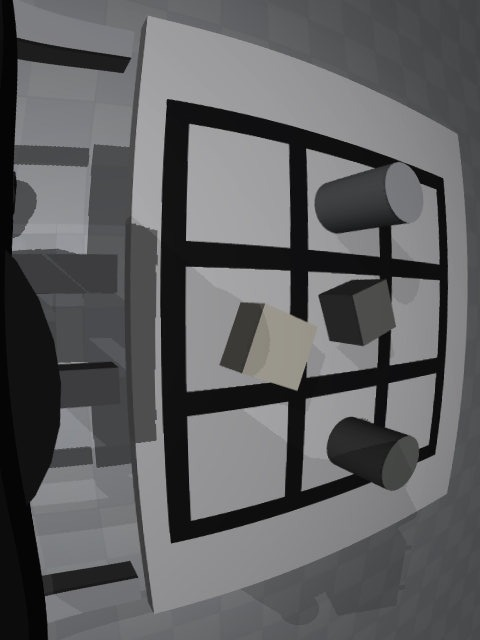can: (314, 162, 424, 234)
cube: (318, 279, 396, 346)
cylinder: (326, 417, 419, 491)
foam: (219, 303, 318, 390)
